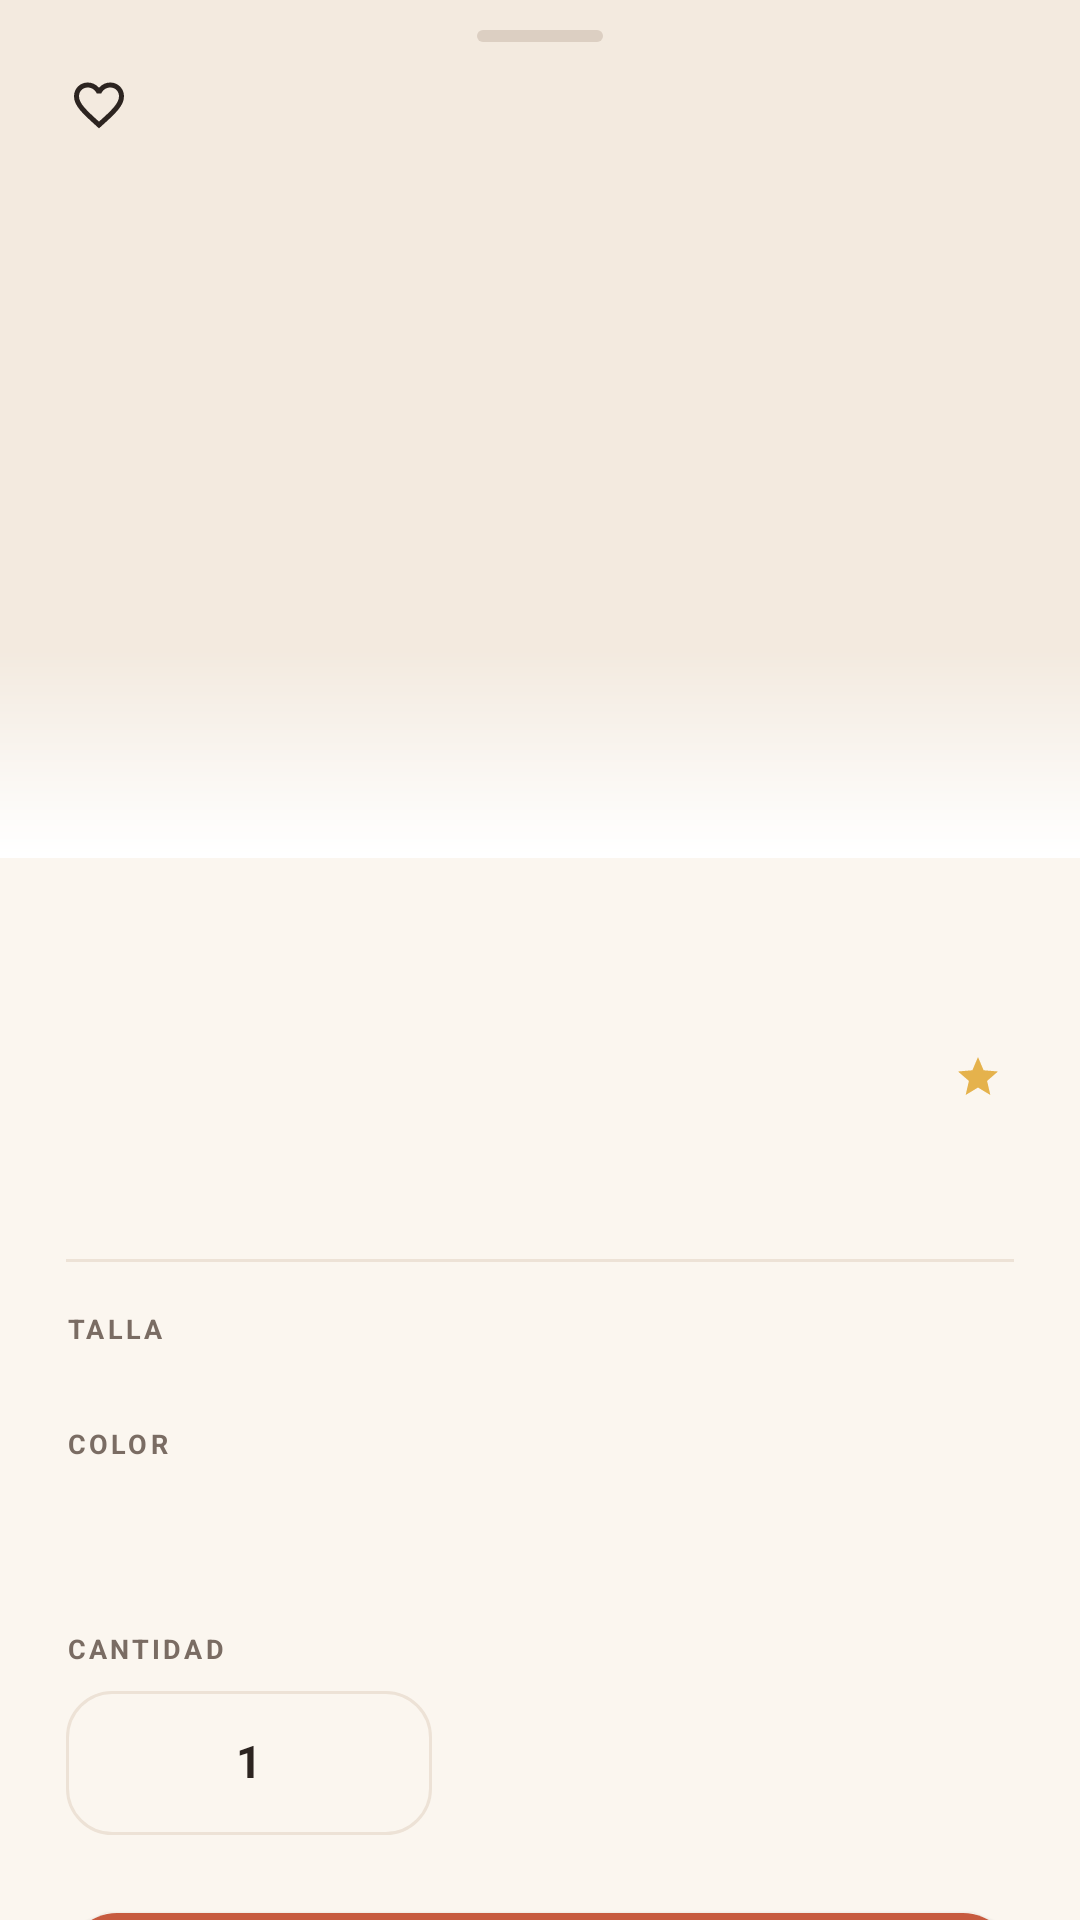

Screen size 1080 x 1920. Icon name, then its center in pixels as (x=x, y=y):
heart: (x=99, y=105)
